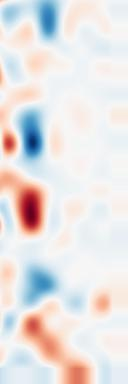filament: (6, 175, 53, 241)
